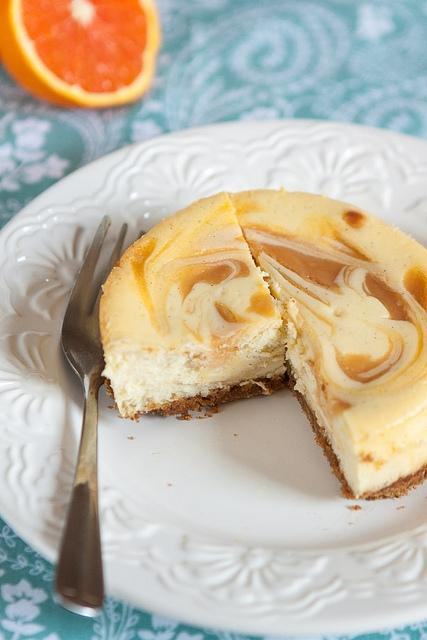orange: (0, 0, 163, 109)
